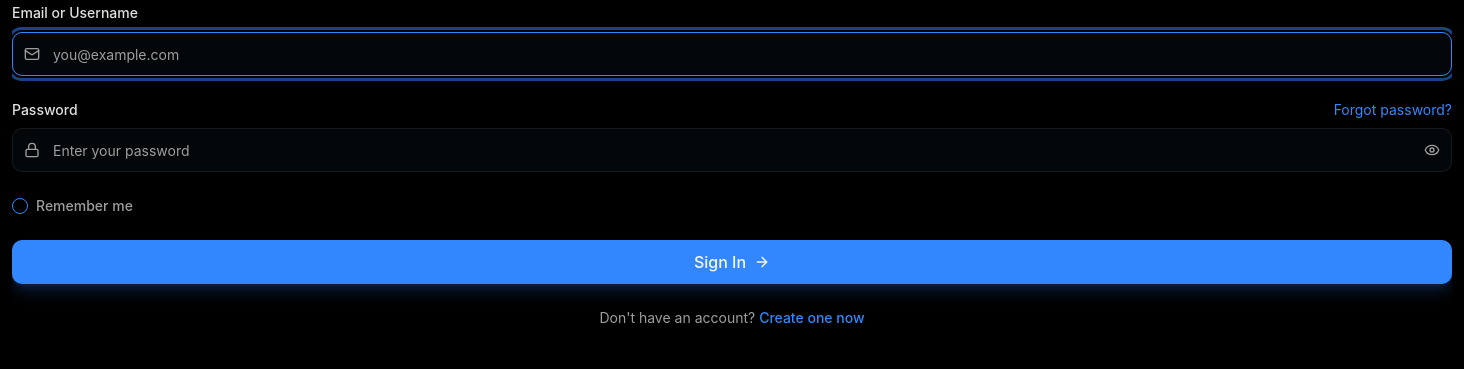
Test case: LoginForm › Form Validation › should show error when submitting empty password
Type "testuser" into the field labelled "Email or Username" at [732, 54], box [12,32,1452,76]
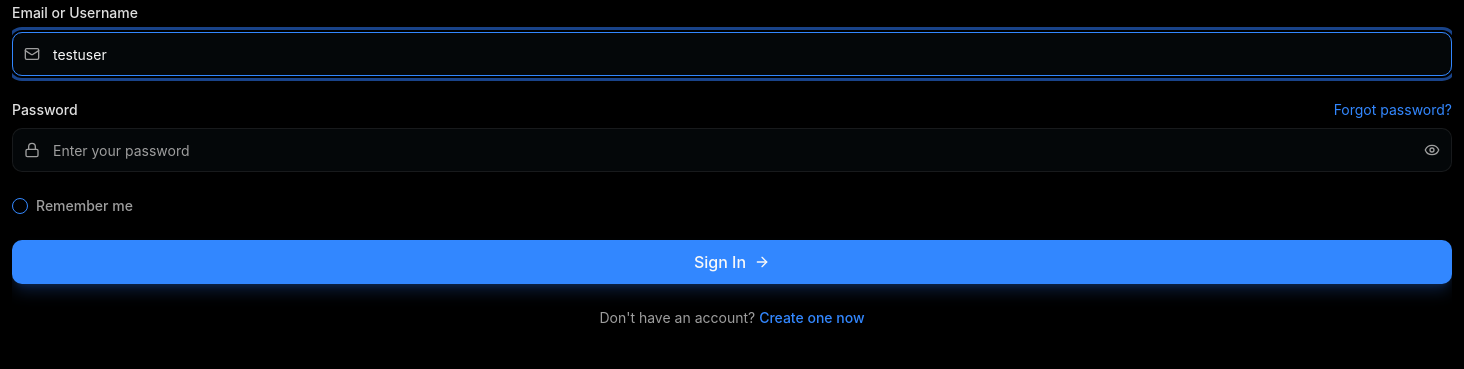
Click the button "Sign In" at [732, 262], box [12,240,1452,284]
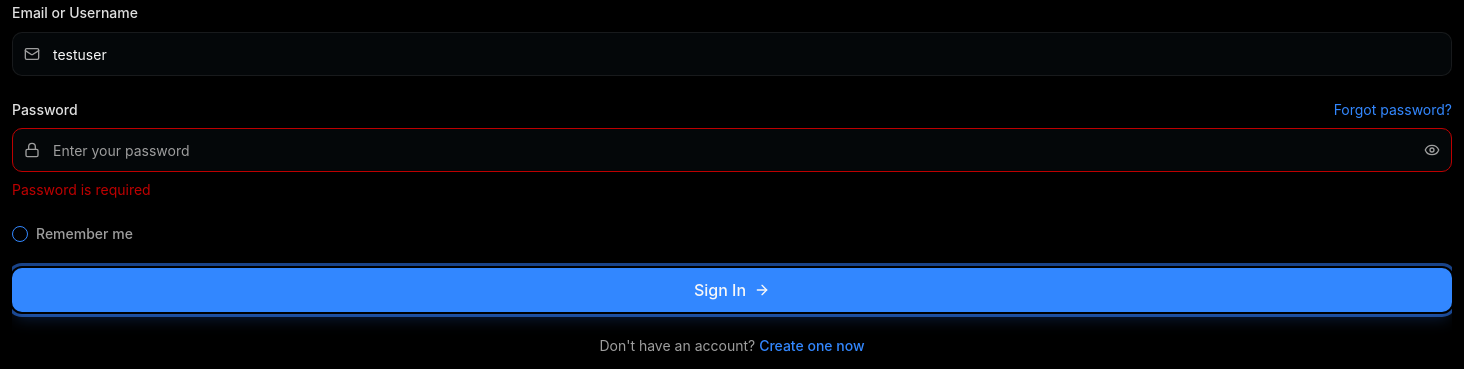
Now the text "Password is required" is shown, box [12,181,151,198]
